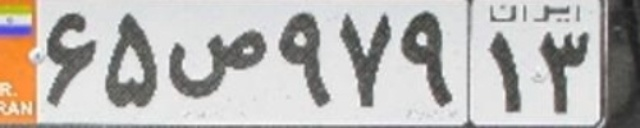1: (486, 32, 522, 112)
3: (537, 30, 588, 114)
5: (102, 13, 158, 106)
6: (40, 12, 97, 106)
7: (338, 12, 389, 108)
9: (279, 11, 333, 107), (400, 10, 451, 107)
saat: (166, 28, 268, 99)
